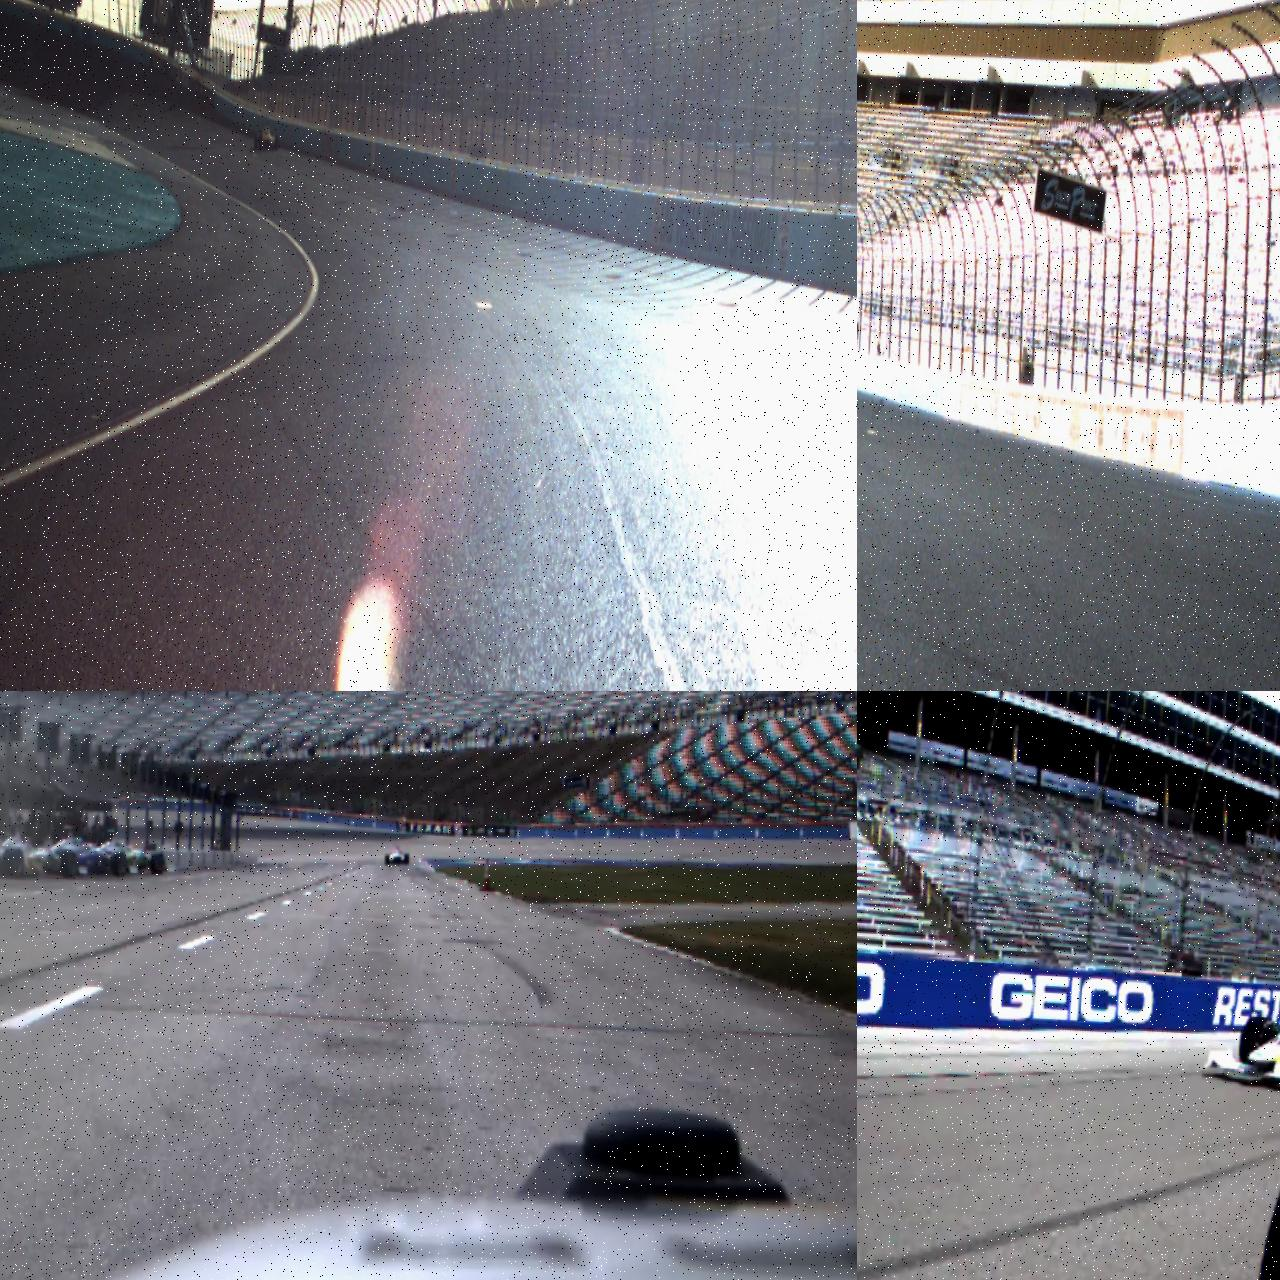AV: (1203, 958, 1280, 1101), (253, 121, 279, 150), (384, 845, 409, 865)
Wheel: (1239, 1014, 1278, 1064), (0, 847, 25, 878), (59, 851, 77, 878), (109, 851, 128, 877), (150, 853, 164, 874), (253, 134, 258, 149), (258, 135, 263, 149), (403, 853, 409, 864), (274, 134, 278, 150), (384, 855, 388, 865)
